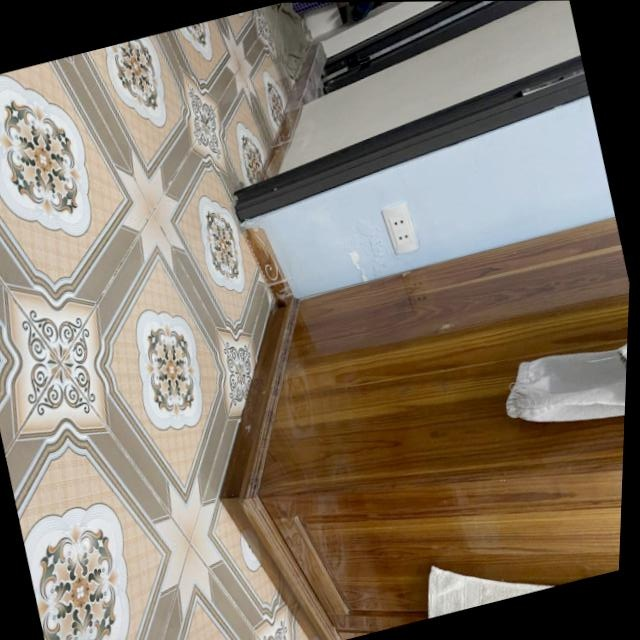outlet: (380, 200, 423, 256)
